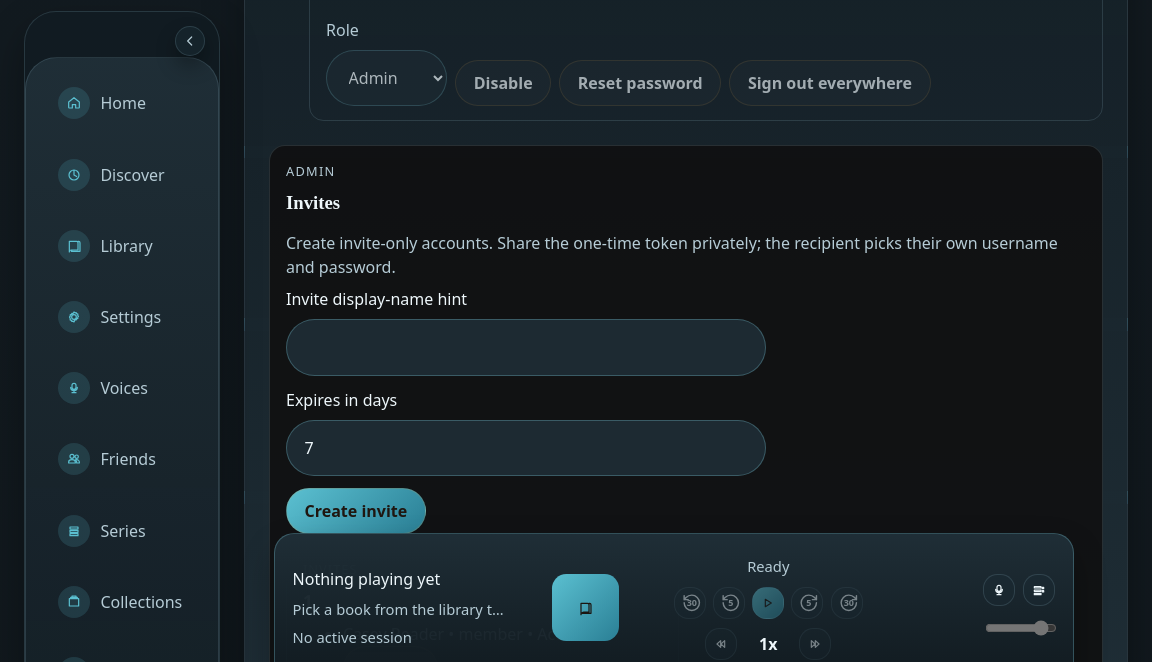
Test: Auth flows › hosts user management and invites on the admin page and can create invites
(page scrolled)
Expected: the dropdown named "Role for avery" is disabled, 326,50 -> 447,106
Expected: the heading "Invites" is shown, 286,192 -> 340,213
Type "Taylor Reader" into the field labelled "Invite display-name hint".
click(526, 348); type("Taylor Reader")  # box 286,319 -> 766,376
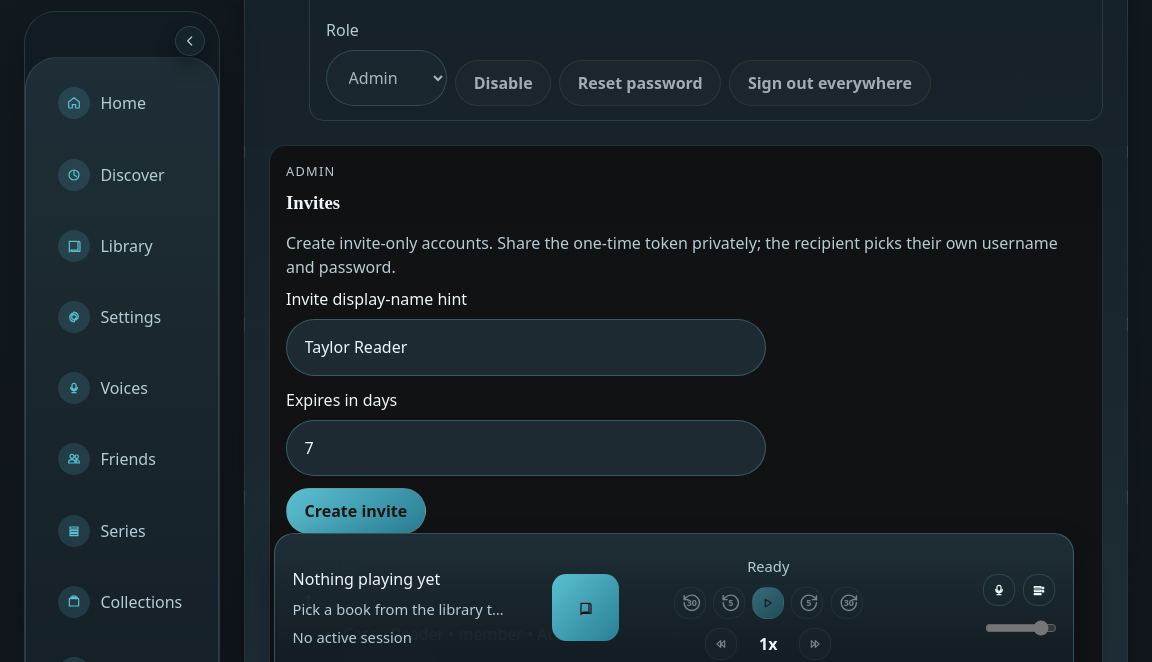
Click the button "Create invite".
click(356, 511)  # box 286,488 -> 426,534
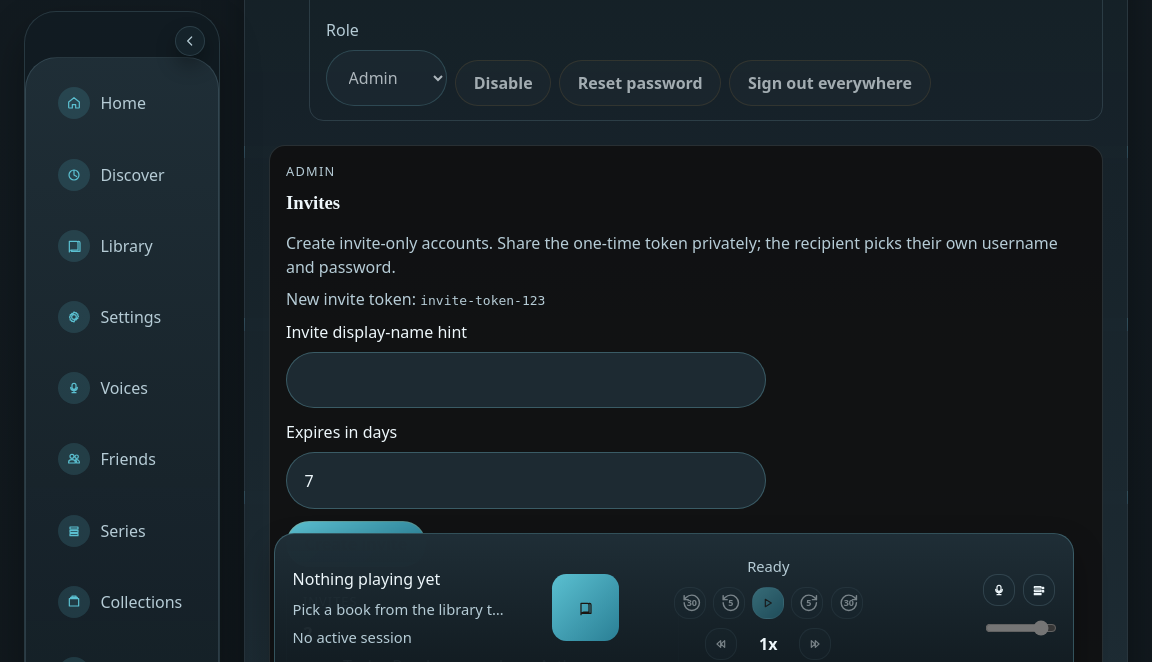
Result: the text "invite-token-123" is shown at 420,293 -> 545,308
